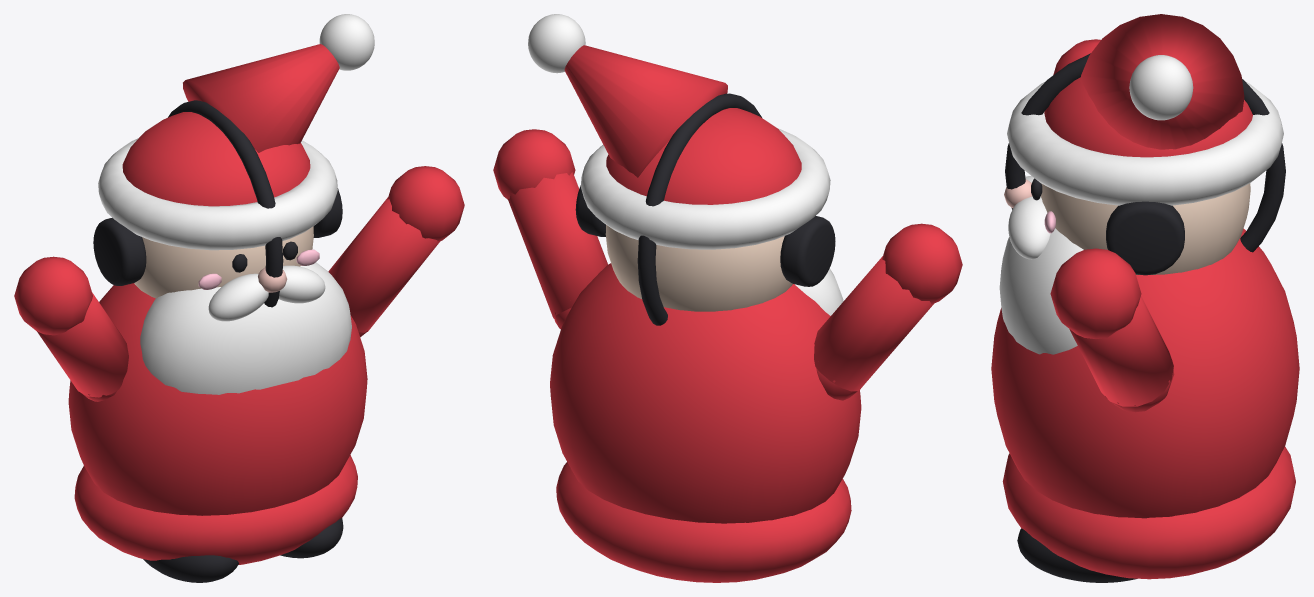
3 renders of one model, left to right at view 1: azimuth 30°, elevation 25°; view 2: azimuth 150°, elevation 25°; view 3: azimuth 270°, elevation 25°, orthographic. The views are drawn at different scales.
Parts seen in each view (by area): view 1: dj_red, dj_white, dj_black, dj_skin, dj_pink; view 2: dj_red, dj_white, dj_skin, dj_black; view 3: dj_red, dj_white, dj_black, dj_skin, dj_nose.
Boxes of the visible parts, x1,y1,x2,y2 form: dj_red: (14,44,464,564); dj_white: (98,14,374,394); dj_black: (93,100,343,582); dj_skin: (134,226,313,298); dj_pink: (198,249,319,289); dj_red: (493,45,962,582); dj_white: (528,14,843,315); dj_skin: (605,225,792,311); dj_black: (575,93,835,325); dj_red: (991,14,1299,579); dj_white: (999,55,1283,354); dj_black: (1005,53,1285,582); dj_skin: (1041,183,1250,274); dj_nose: (1004,179,1032,208).
Bounding box in the file's own units: 2.96 × 3.16 × 1.56.
